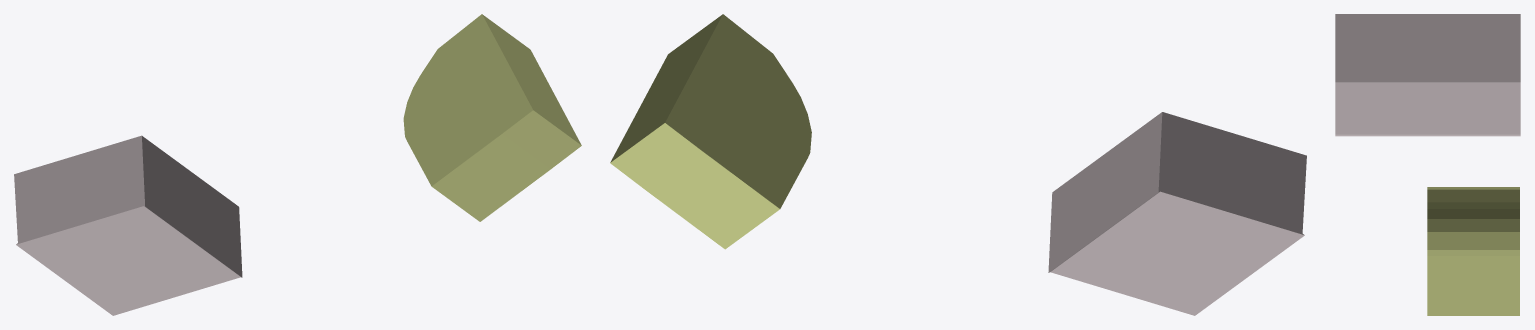
3 views of the same model, side by side, from view 1: azimuth 30°, elevation 25°; view 2: azimuth 150°, elevation 25°; view 3: azimuth 270°, elevation 25° (orthographic). The views are drawn at different scales.
Parts seen in each view (by area): view 1: 0_2_3_2_1_2_0_3; view 2: 0_2_3_2_1_2_0_3; view 3: 0_2_3_2_1_2_0_3.
Boxes of the visible parts, x1,y1,x2,y2 form: 0_2_3_2_1_2_0_3: (14, 14, 581, 315); 0_2_3_2_1_2_0_3: (610, 14, 1306, 315); 0_2_3_2_1_2_0_3: (1335, 14, 1520, 315).
Bounding box in the file's own units: 36.95 × 10.9 × 12.
